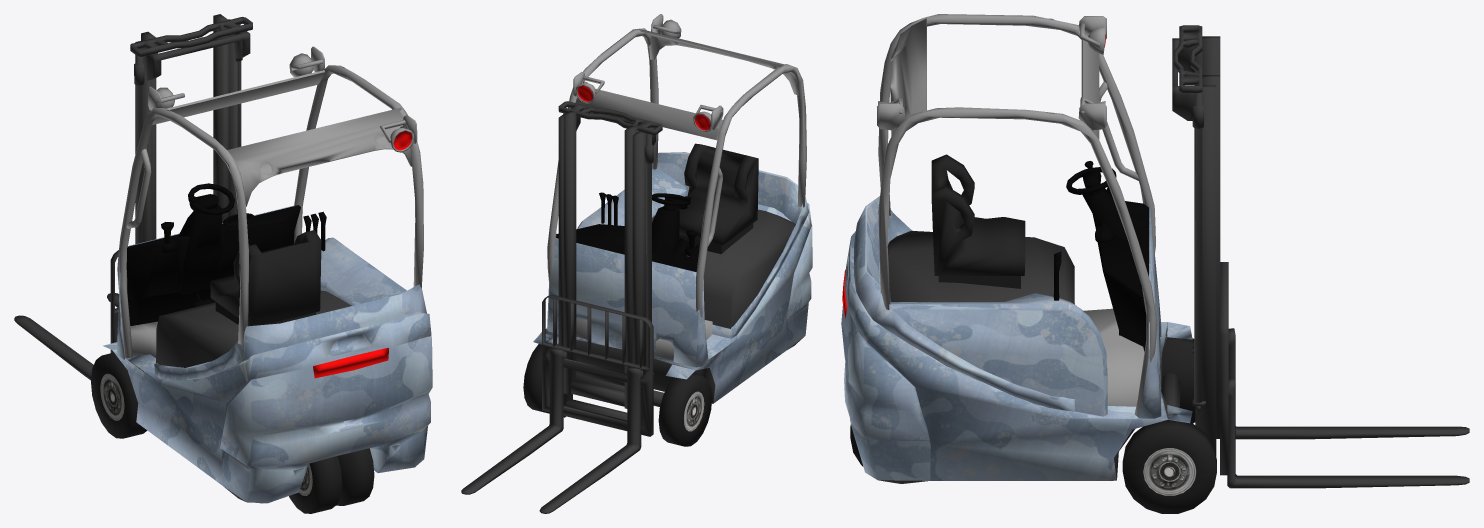
File: still.FBX
3 views of the same model, side by side, from view 1: azimuth 30°, elevation 25°; view 2: azimuth 150°, elevation 25°; view 3: azimuth 270°, elevation 25° (orthographic). The views are drawn at different scales.
Parts seen in each view (by area): view 1: forklift, Cylinder002; view 2: forklift, Cylinder001; view 3: forklift, Cylinder001.
Boxes of the visible parts, left/top/right/bottom form: forklift: left=14, top=14, right=432, bottom=505; Cylinder002: left=289, top=456, right=342, bottom=513; forklift: left=461, top=14, right=812, bottom=513; Cylinder001: left=523, top=343, right=576, bottom=413; forklift: left=841, top=14, right=1469, bottom=488; Cylinder001: left=1122, top=420, right=1216, bottom=513.
Bounding box in the file's own units: 219 × 587 × 422.
7 materials, 2 textured.
